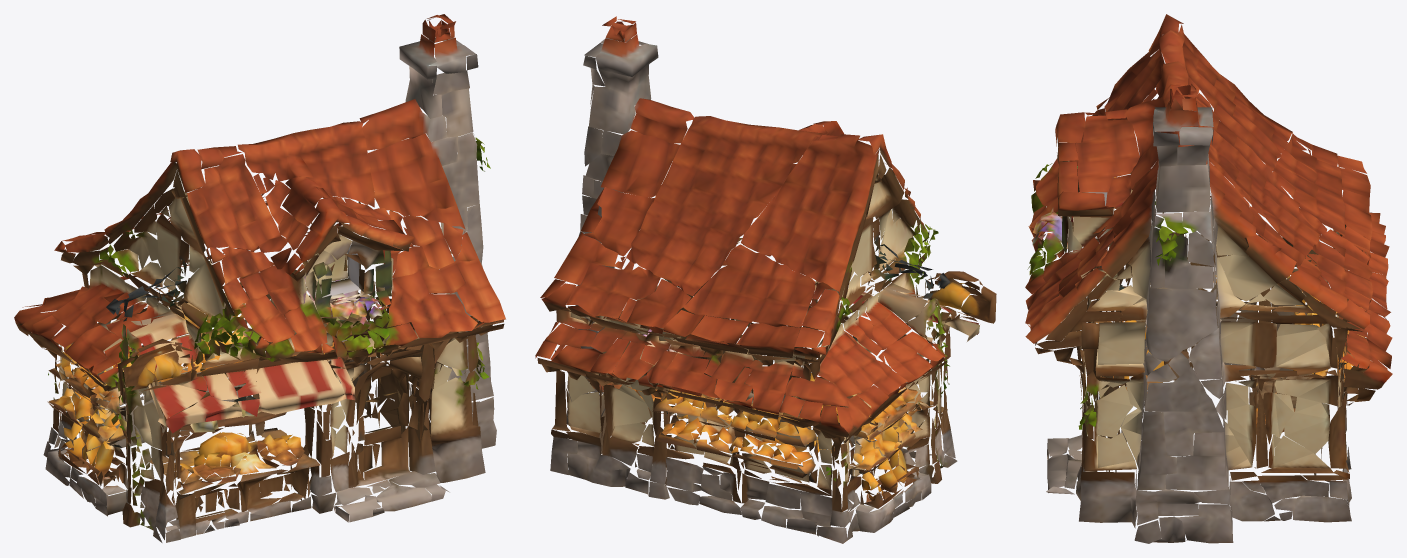
File: bakery-mobile.glb
The picture shows the model from 3 angles, left to right: view 1: azimuth 30°, elevation 25°; view 2: azimuth 150°, elevation 25°; view 3: azimuth 270°, elevation 25°; orthographic projection. The views are drawn at different scales.
Parts seen in each view (by area): view 1: tripo_node_15ec515c-aa49-4d68-a427-8e7a61bb75b3; view 2: tripo_node_15ec515c-aa49-4d68-a427-8e7a61bb75b3; view 3: tripo_node_15ec515c-aa49-4d68-a427-8e7a61bb75b3.
Boxes of the visible parts, x1,y1,x2,y2 form: tripo_node_15ec515c-aa49-4d68-a427-8e7a61bb75b3: (14,14,505,542); tripo_node_15ec515c-aa49-4d68-a427-8e7a61bb75b3: (535,16,996,543); tripo_node_15ec515c-aa49-4d68-a427-8e7a61bb75b3: (1025,14,1392,543).
Bounding box in the file's own units: 4.38 × 4.4 × 3.35.
Materials: 1 (1 with a texture image).
